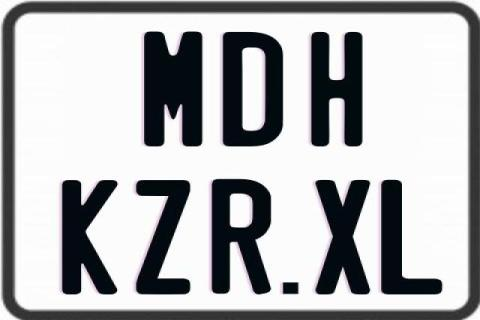D: (222, 32, 284, 150)
H: (310, 31, 365, 147)
K: (60, 180, 118, 295)
L: (380, 180, 444, 294)
M: (144, 31, 207, 151)
R: (210, 177, 269, 293)
X: (312, 178, 368, 292)
Z: (136, 179, 194, 297)
